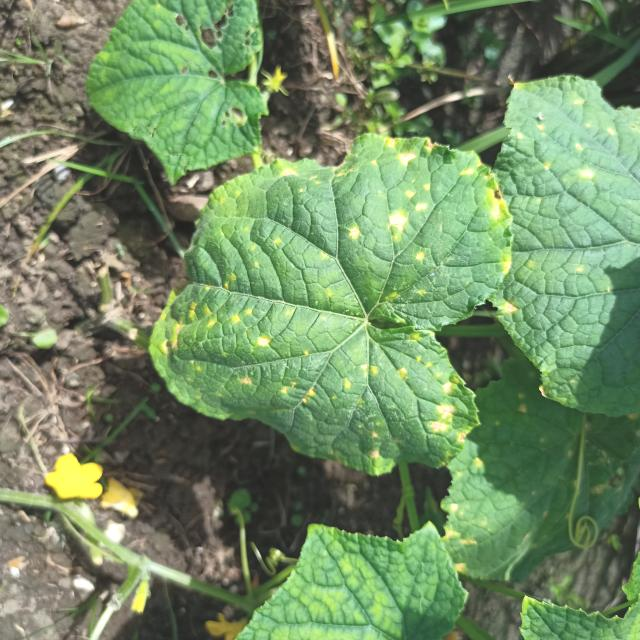disease_cucumber: (165, 138, 500, 445), (436, 396, 546, 567), (510, 104, 622, 174)
